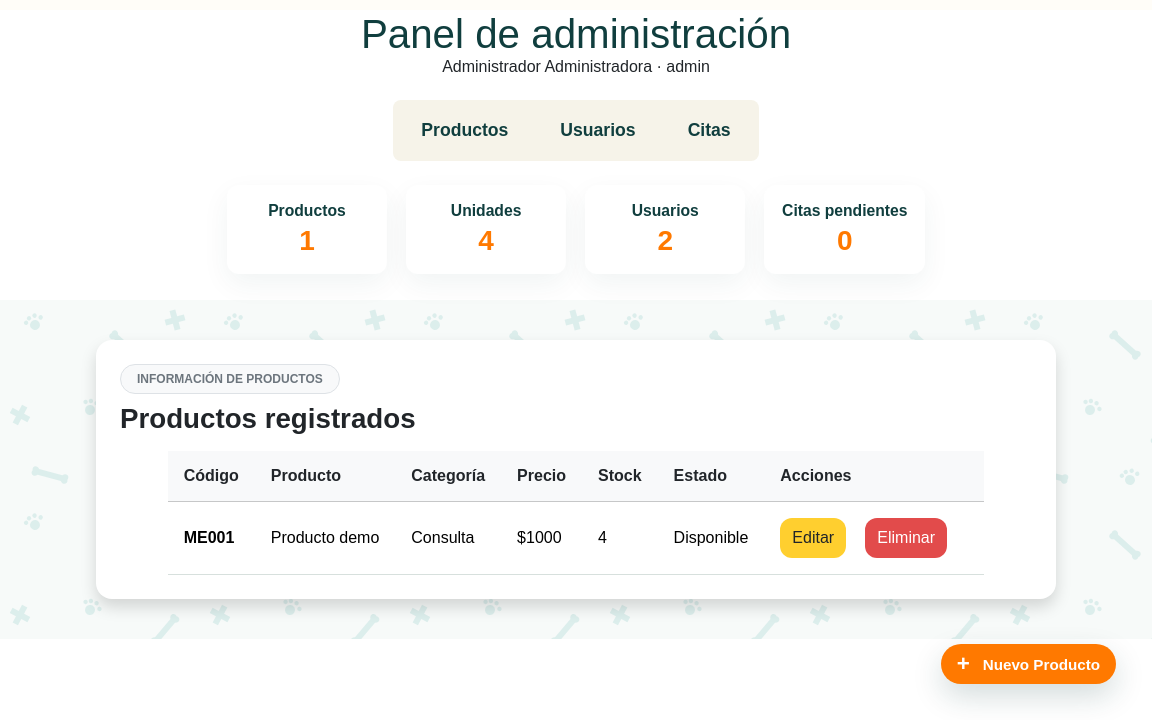
Test: elimina un producto al confirmar desde el diálogo de la página
This screenshot has width=1152, height=720.
Click the button "Eliminar" at (906,538), box top-left (865, 518), bottom-right (947, 558)
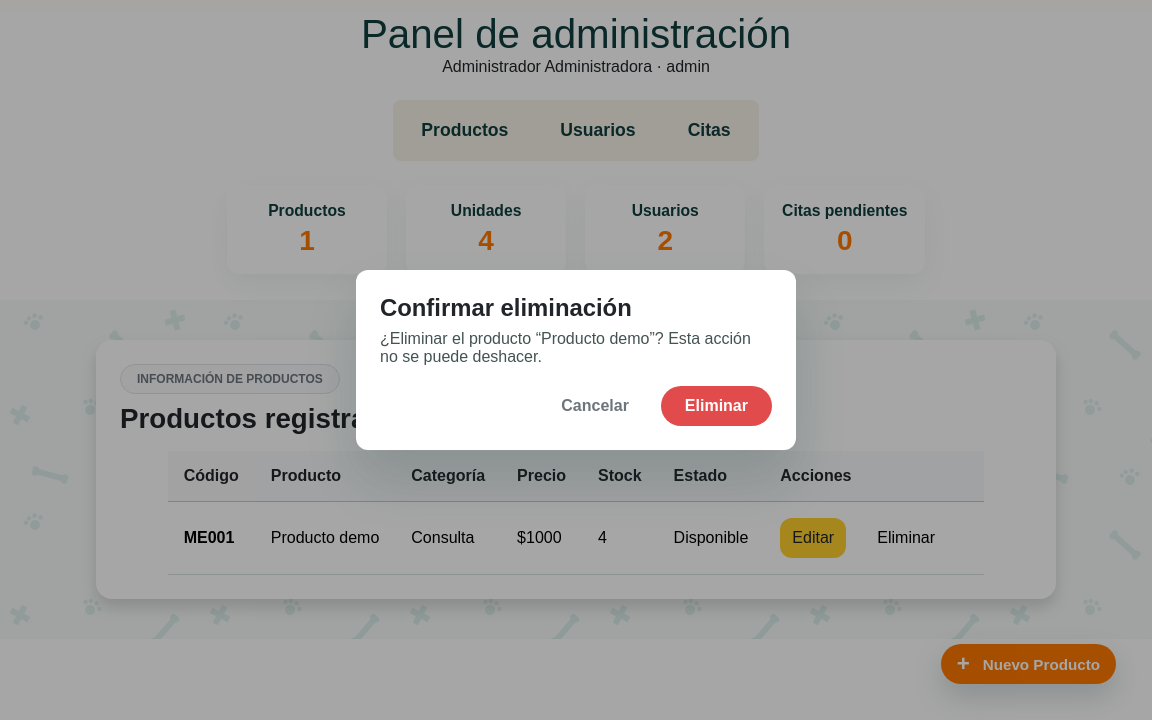
Expected: the dialog is shown, top-left (356, 270), bottom-right (796, 450)
Click the button with class "btn-delete" showing "Eliminar" at (716,406), box top-left (661, 386), bottom-right (772, 426)
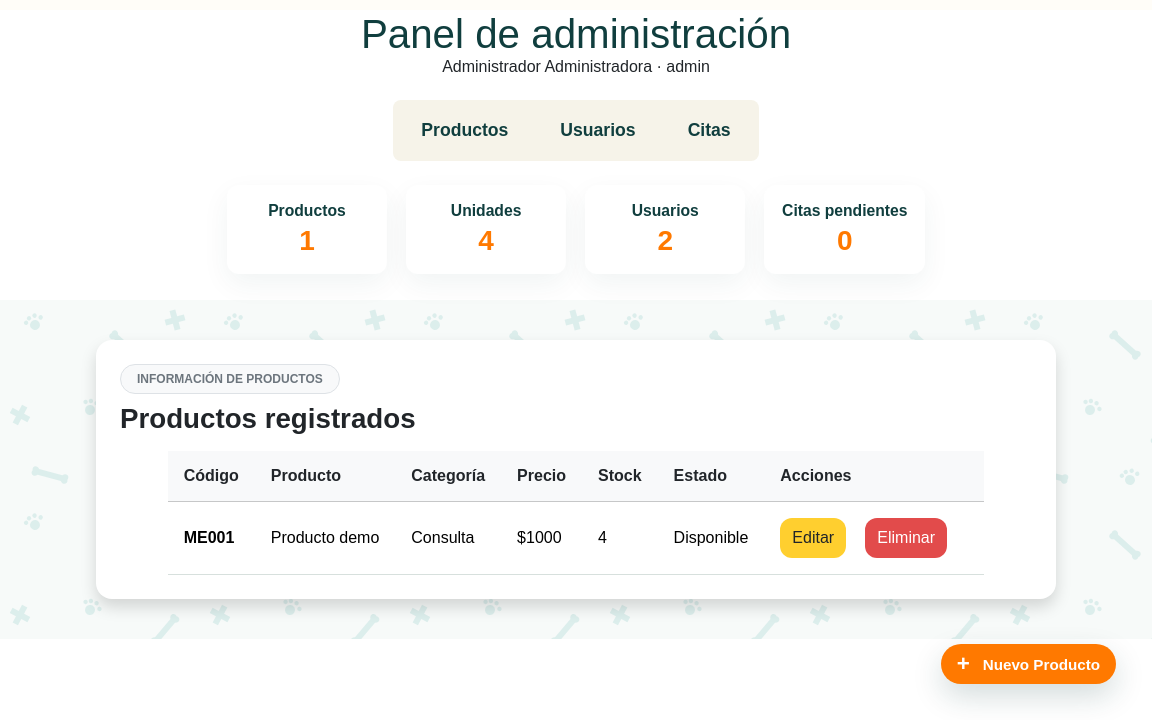
Expected: the dialog is gone
